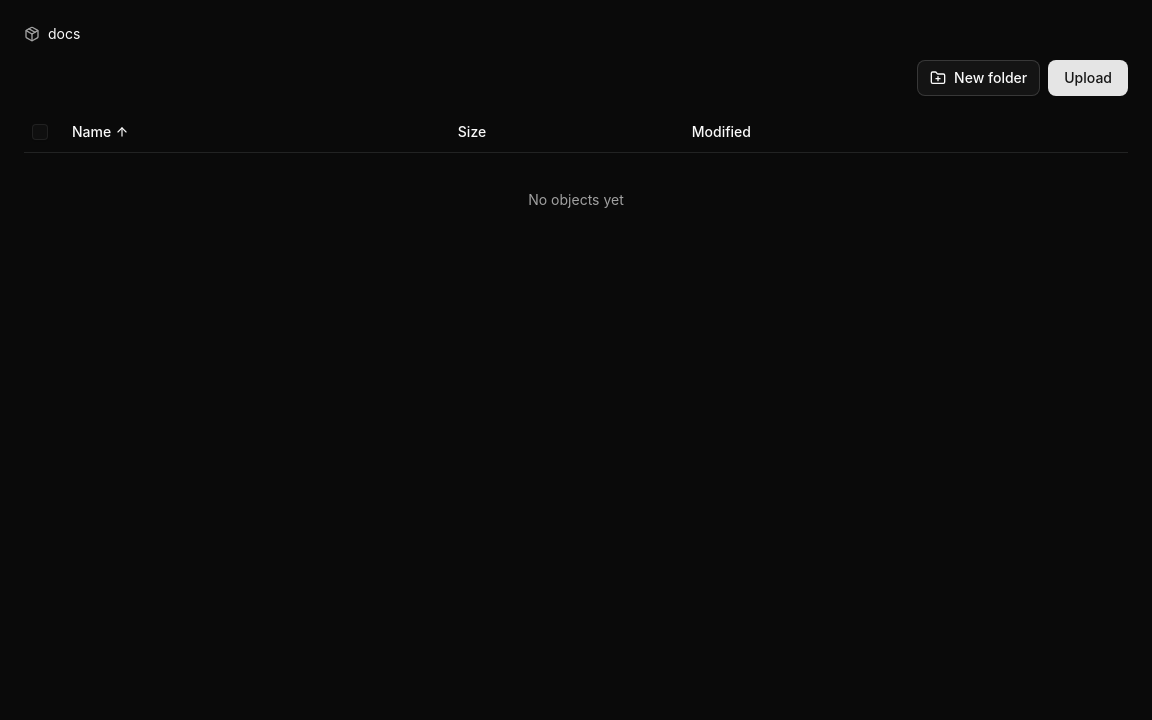
Scenario: BucketDetailPage › renders a New folder button that opens the create-folder dialog
Click the button "New folder". click: x=979, y=78
box: [917,60,1040,96]
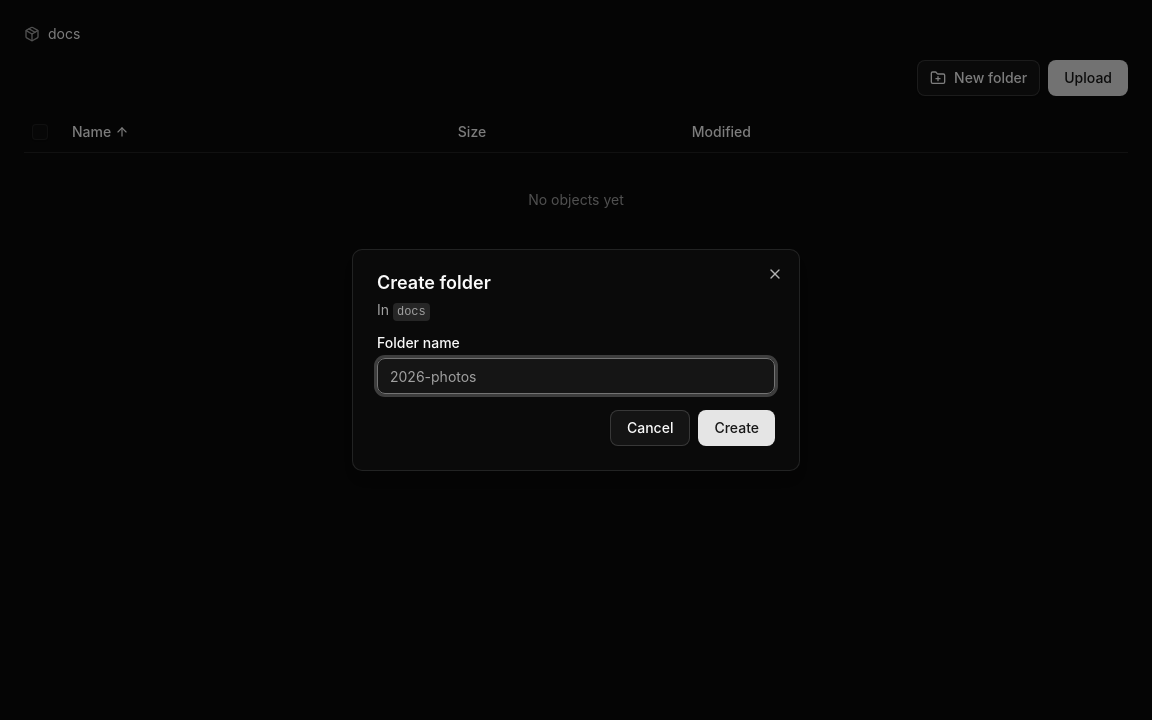
Check: the dialog "Create folder In docs Folder name Cancel Create" is shown, box [352,249,800,471]
